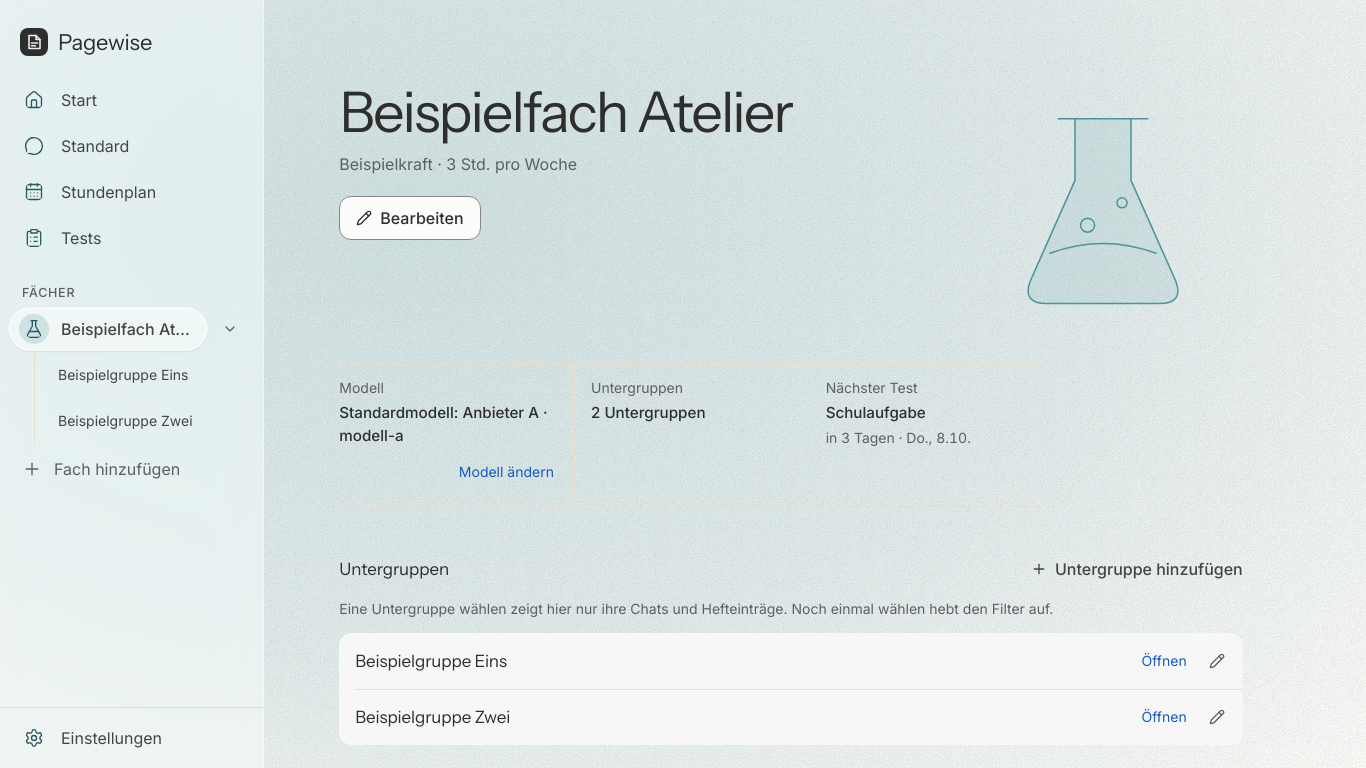
it: Fachseite in „Atelier“ (Arbeitsplatz) › hebt den Filter auch mit dem Knopf über der Liste auf
Click the button "Beispielgruppe Zwei": [433, 717] box [339,689,1134,745]
(page scrolled)
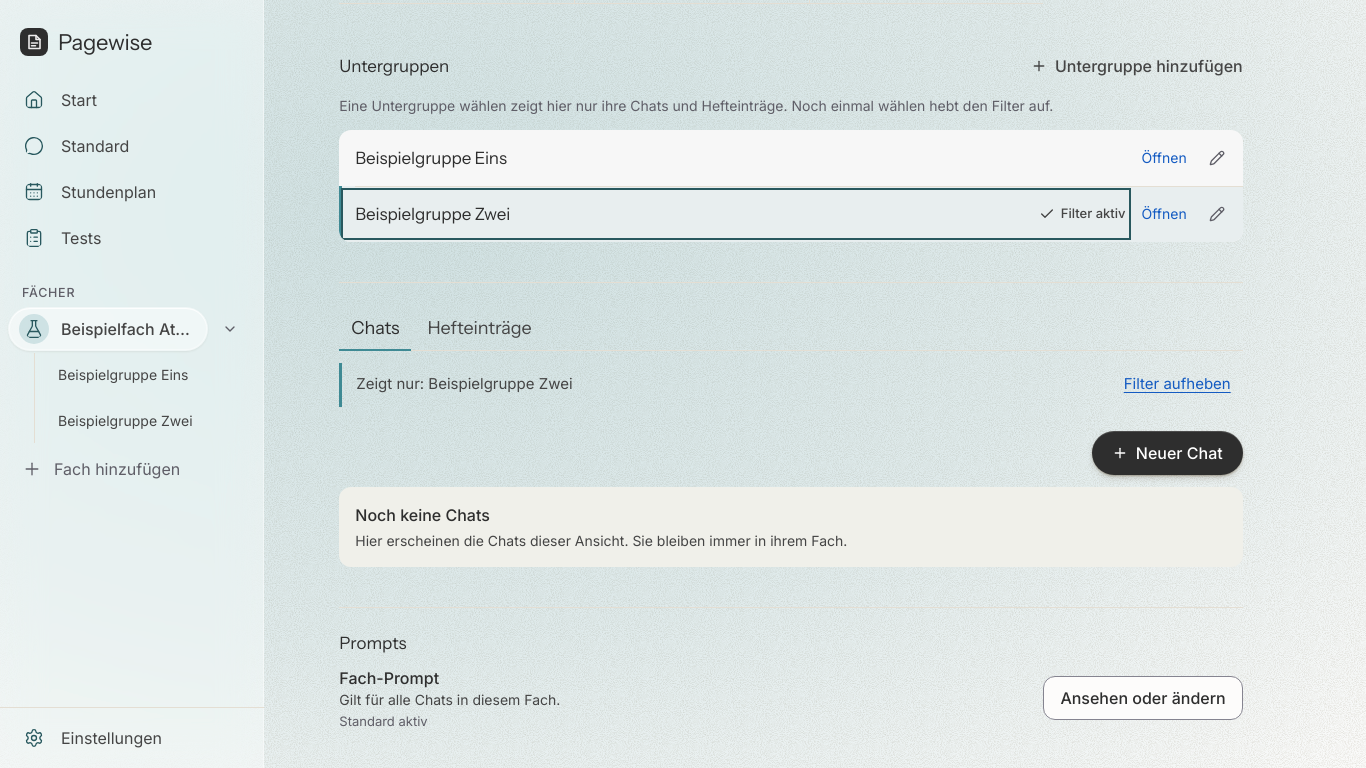
Click the button "Filter aufheben": [1177, 385] box [1112,363,1243,407]
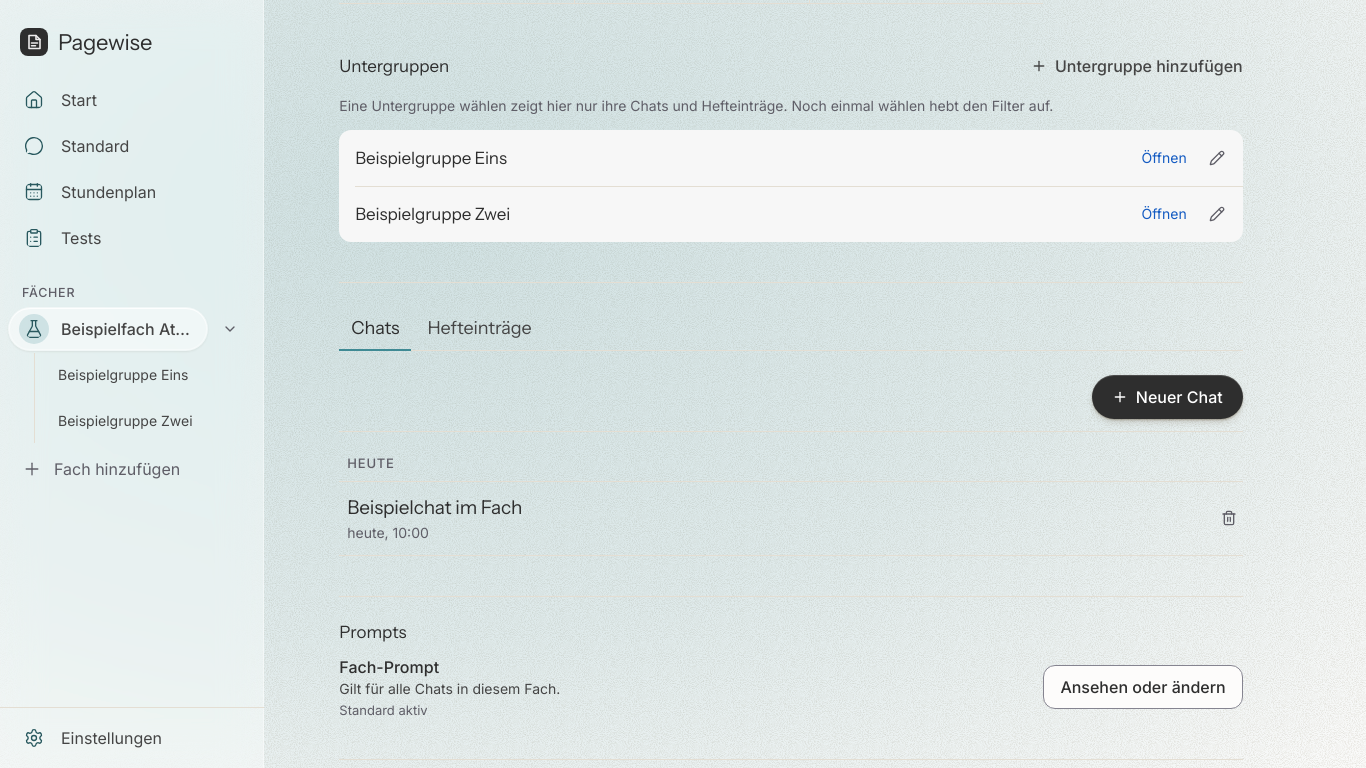
Check: the text "Beispielchat im Fach" is shown, box [347,496,522,519]
Check: the button "Filter aufheben" is gone
